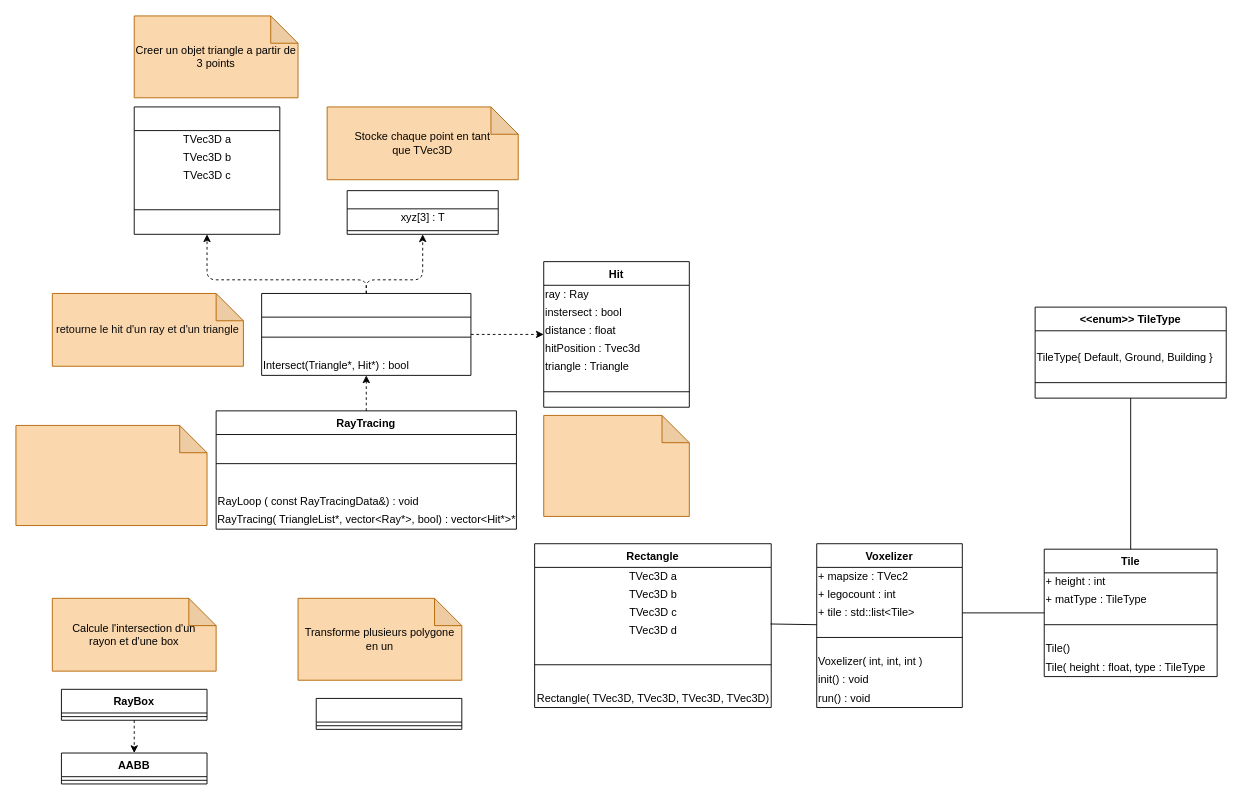
Image size: 1242x800. Some labels were removed from this diagram. Each missing label, with the box of its shape:
Contient le point du hit, le triangle et la distance entre le hit et le triangle: (543, 415, 689, 516)
Creer une liste de hit a partir de plusieurs ray et une liste de triangles: (15, 425, 207, 526)
OGRGDALTools: (315, 698, 462, 729)
Ray: (261, 293, 471, 375)
Triangle: (133, 106, 280, 234)
TVec3D: (346, 190, 498, 234)
